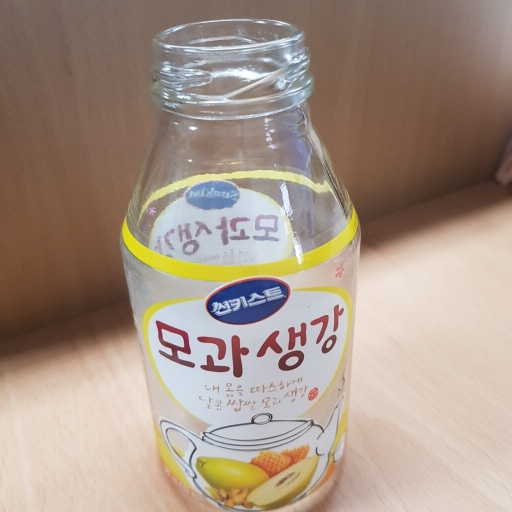Glass_4: (114, 21, 371, 512)
